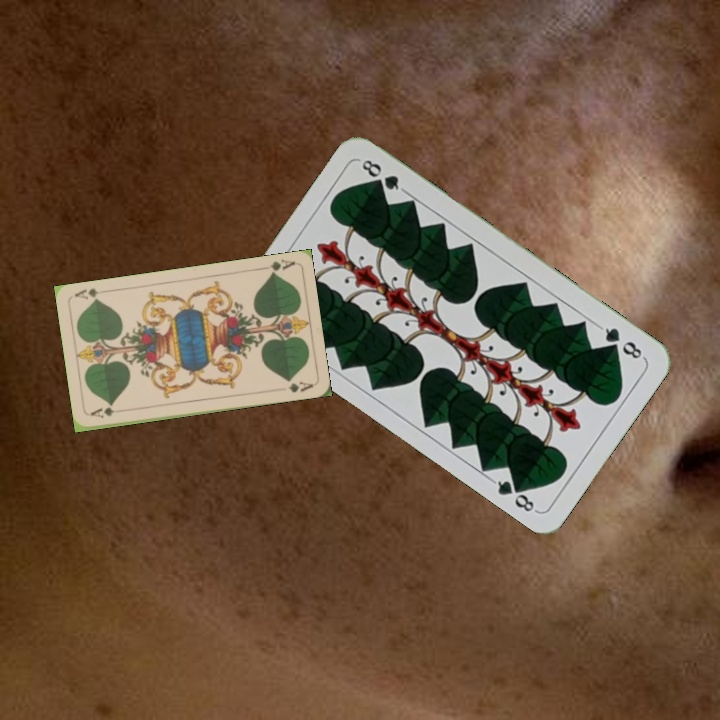G8: (595, 322, 647, 362)
GA: (256, 256, 297, 278), (87, 403, 127, 421)
